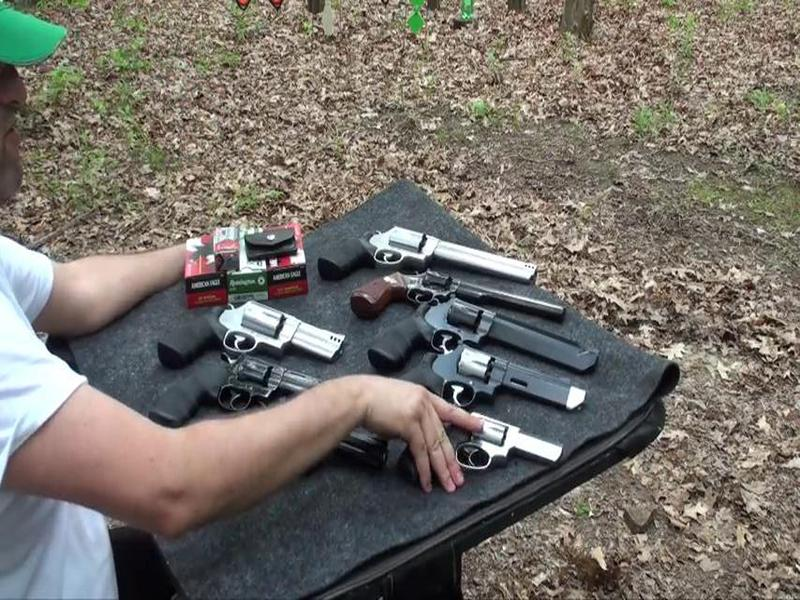Revolver: (147, 285, 352, 379)
